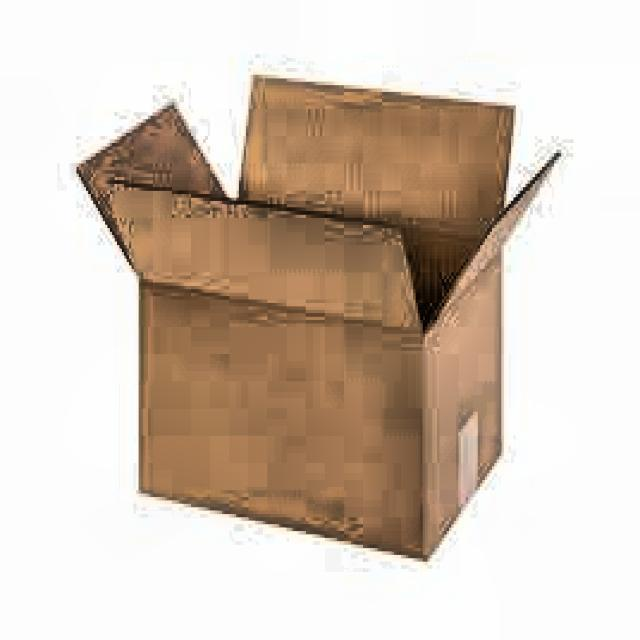cardboard: (74, 71, 561, 562)
